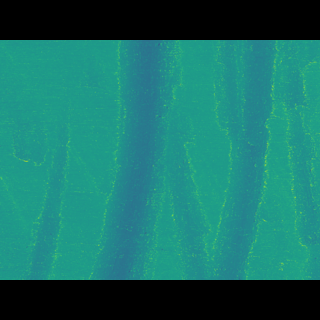Loch: (170, 69, 284, 250), (83, 70, 186, 250), (19, 133, 75, 251), (286, 69, 319, 251)
